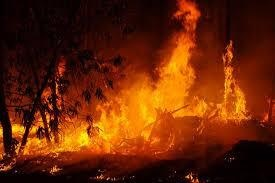fire: (46, 7, 266, 159)
